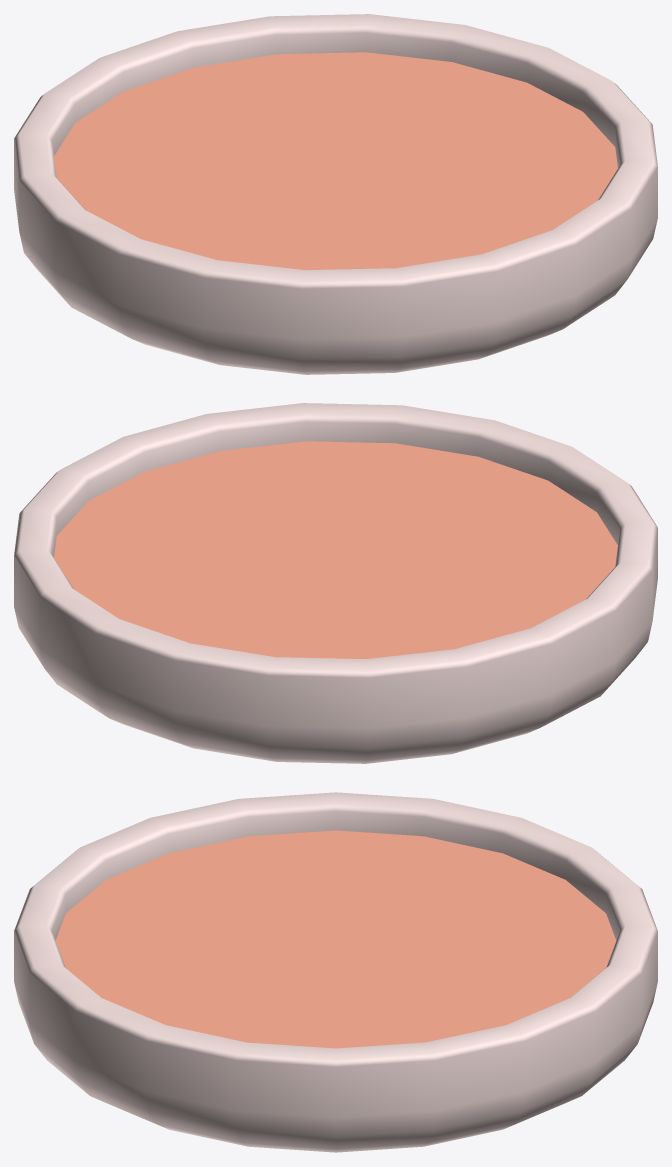
Rendered from Store_20_Plate_1.glb.
3 views of the same model, one above another, from view 1: azimuth 30°, elevation 25°; view 2: azimuth 150°, elevation 25°; view 3: azimuth 270°, elevation 25° (orthographic).
Visible parts, largest first — view 1: Store_20_Plate_1; view 2: Store_20_Plate_1; view 3: Store_20_Plate_1.
Boxes of the visible parts, x1,y1,x2,y2 form: Store_20_Plate_1: [14, 14, 657, 374]; Store_20_Plate_1: [14, 403, 657, 763]; Store_20_Plate_1: [14, 792, 657, 1152].
Size of the model in its own units: 0.2493 by 0.0474 by 0.2493.
1 material, 1 textured.
